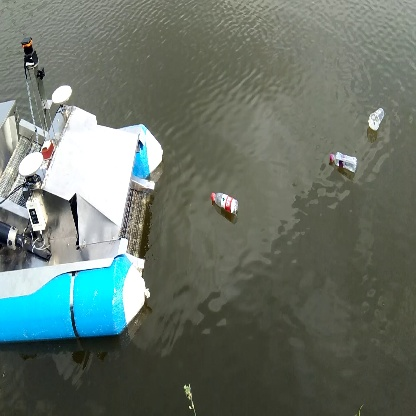bottle: (327, 146, 360, 178), (210, 190, 242, 216), (366, 104, 388, 133)
